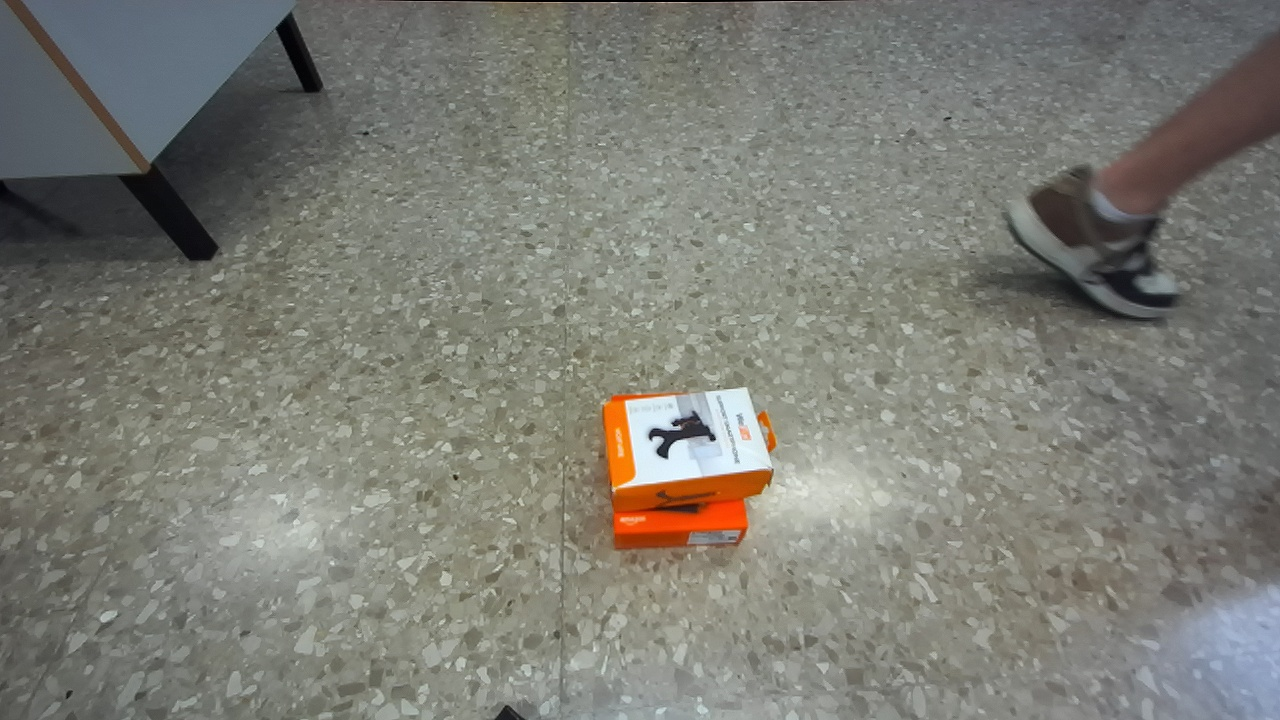caja_manguera: (614, 499, 748, 549)
caja_pcb: (603, 388, 774, 512)
